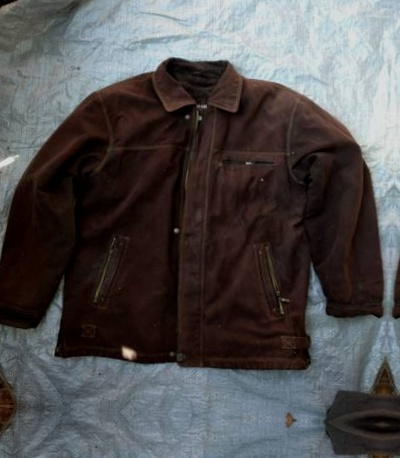Blazer: (0, 43, 394, 384), (0, 447, 374, 458), (391, 63, 400, 404)
